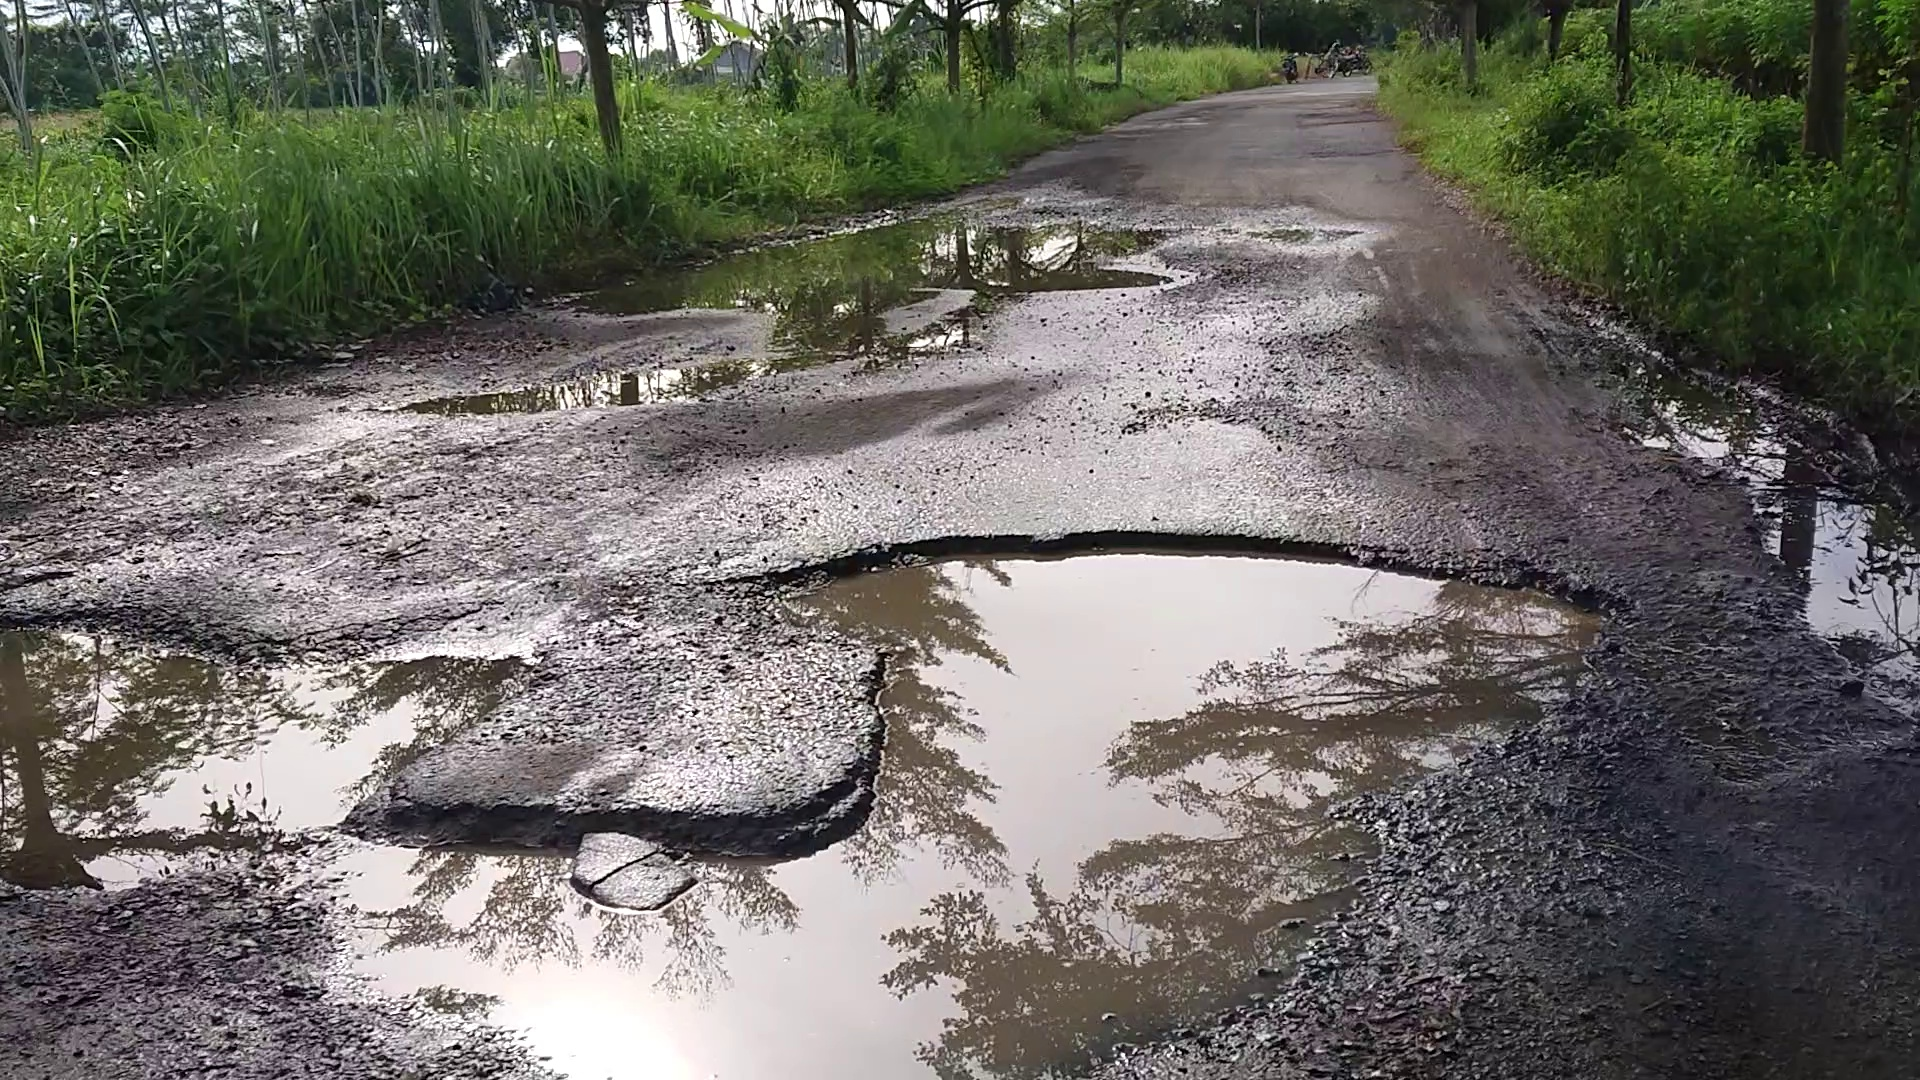Berlubang: (484, 558, 1655, 1065), (454, 207, 1226, 419), (1, 599, 481, 870)
